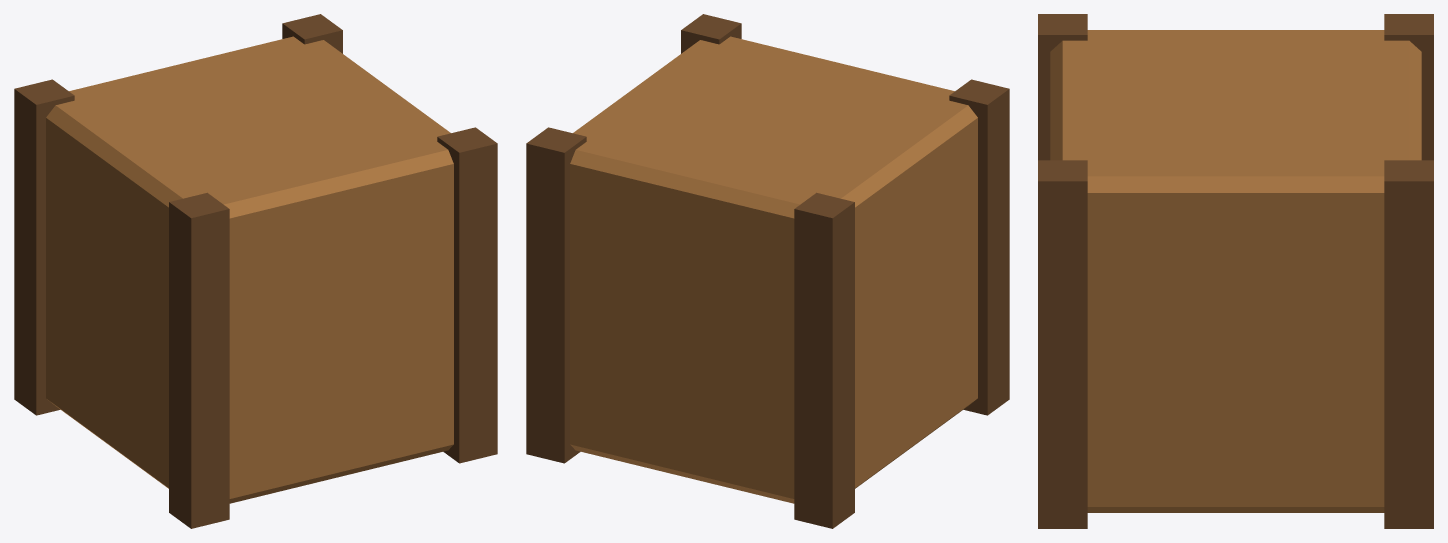
File: crate.glb
The picture shows the model from 3 angles, left to right: view 1: azimuth 30°, elevation 25°; view 2: azimuth 150°, elevation 25°; view 3: azimuth 270°, elevation 25°; orthographic projection. The views are drawn at different scales.
Parts seen in each view (by area): view 1: crate; view 2: crate; view 3: crate.
Boxes of the visible parts, x1,y1,x2,y2 form: crate: (14,14,497,528); crate: (526,14,1009,528); crate: (1038,14,1433,528).
Size of the model in its own units: 0.64 by 0.62 by 0.64.
